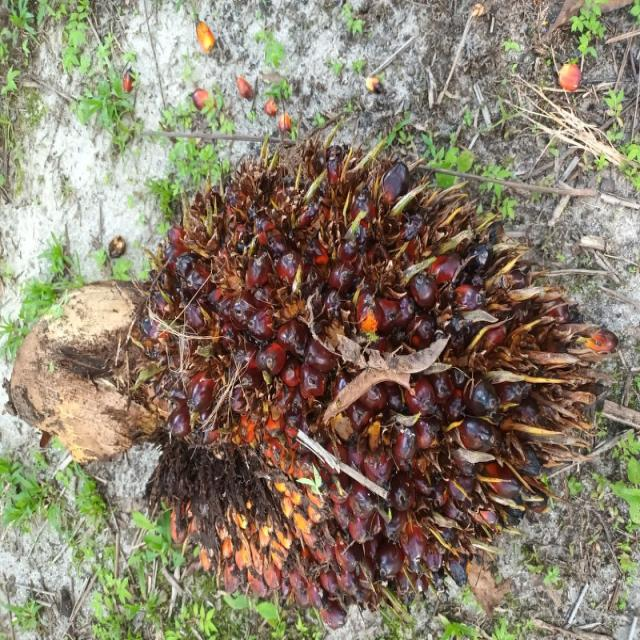fraksi 1: (0, 8, 400, 640)
